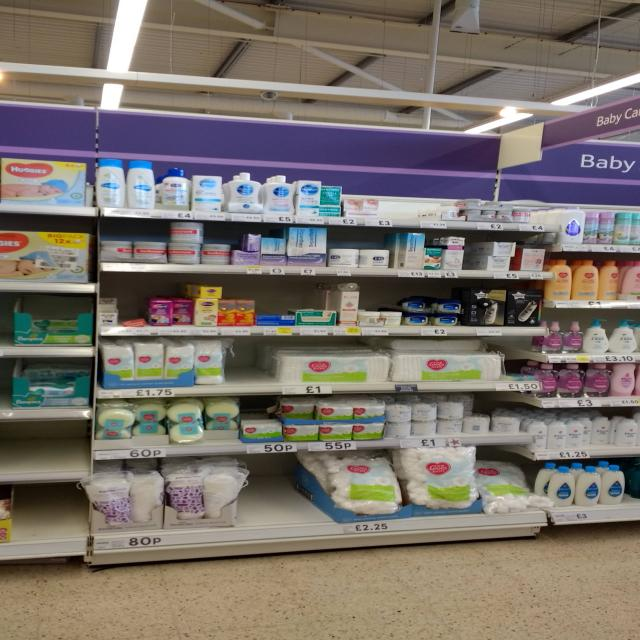void: (246, 454, 288, 538), (290, 454, 328, 536), (231, 335, 275, 395), (46, 423, 88, 481), (45, 486, 80, 553), (3, 423, 42, 482), (13, 486, 42, 558), (120, 286, 150, 334), (503, 337, 527, 390), (379, 187, 406, 227), (467, 233, 486, 277), (408, 194, 432, 227)
